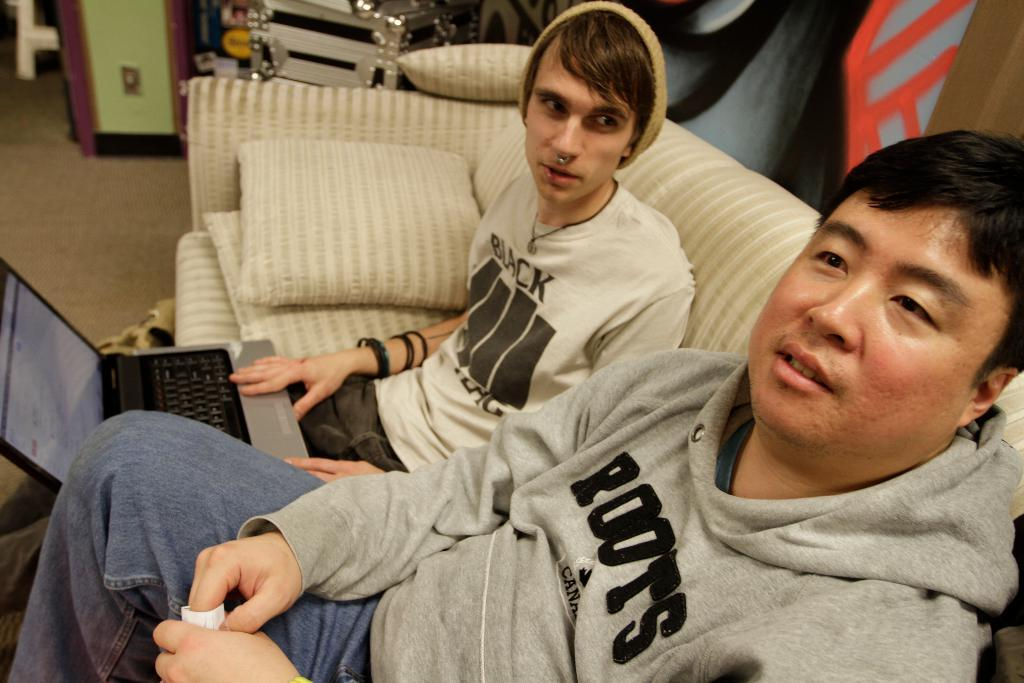Computer-keyboard: (140, 349, 248, 445)
